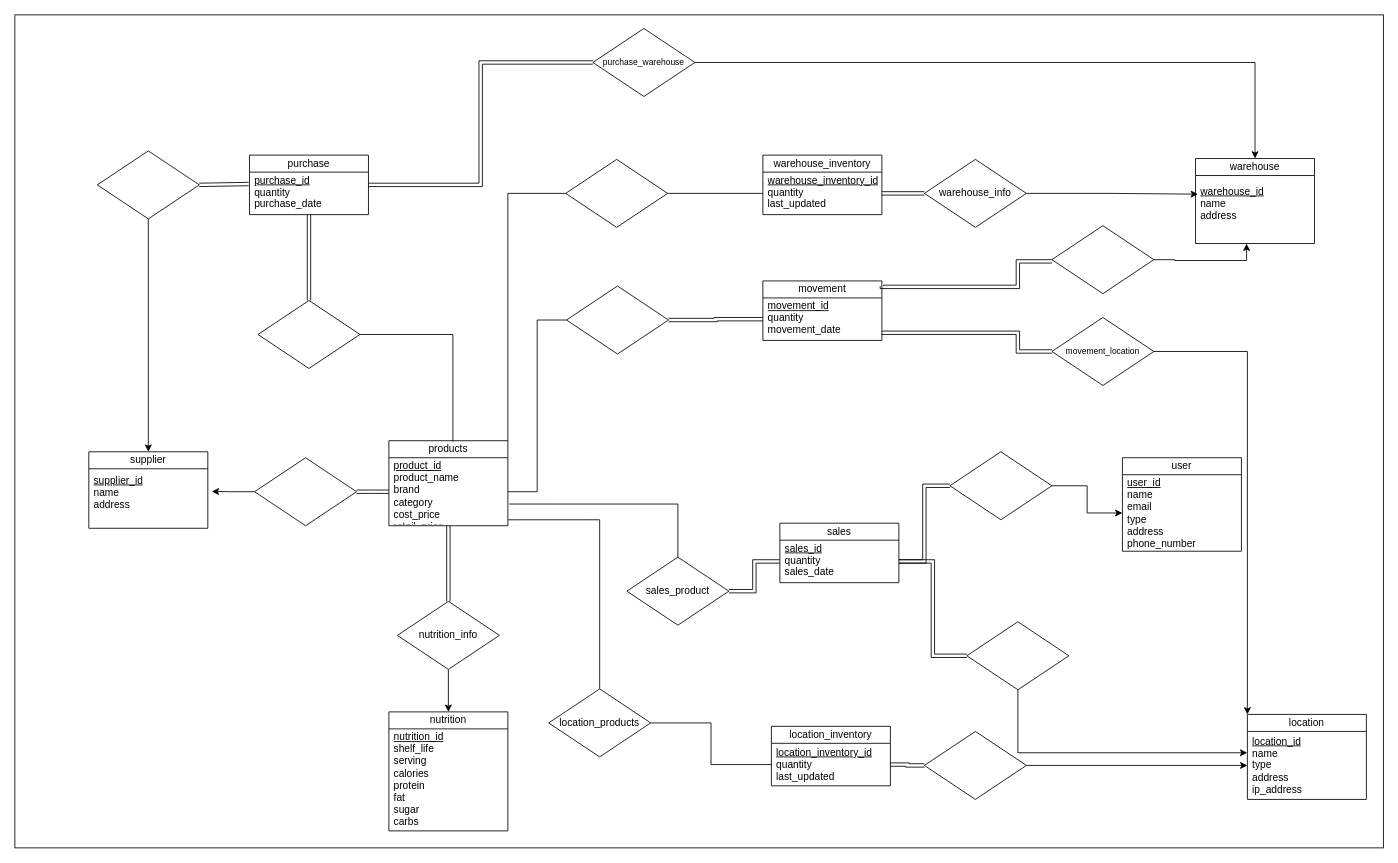
Image size: 1398x863. Some labels were removed from this diagram. The centre of each missing label's shape, as x and y in pixels:
location_info: (975,765)
movement_products: (617,319)
movement_warehouse: (1102,259)
products_purchased: (308,334)
products_supplier: (305,491)
sales_location: (1017,655)
sales_user: (1000,485)
supplier_purchase: (147,184)
warehouse_products: (616,193)
